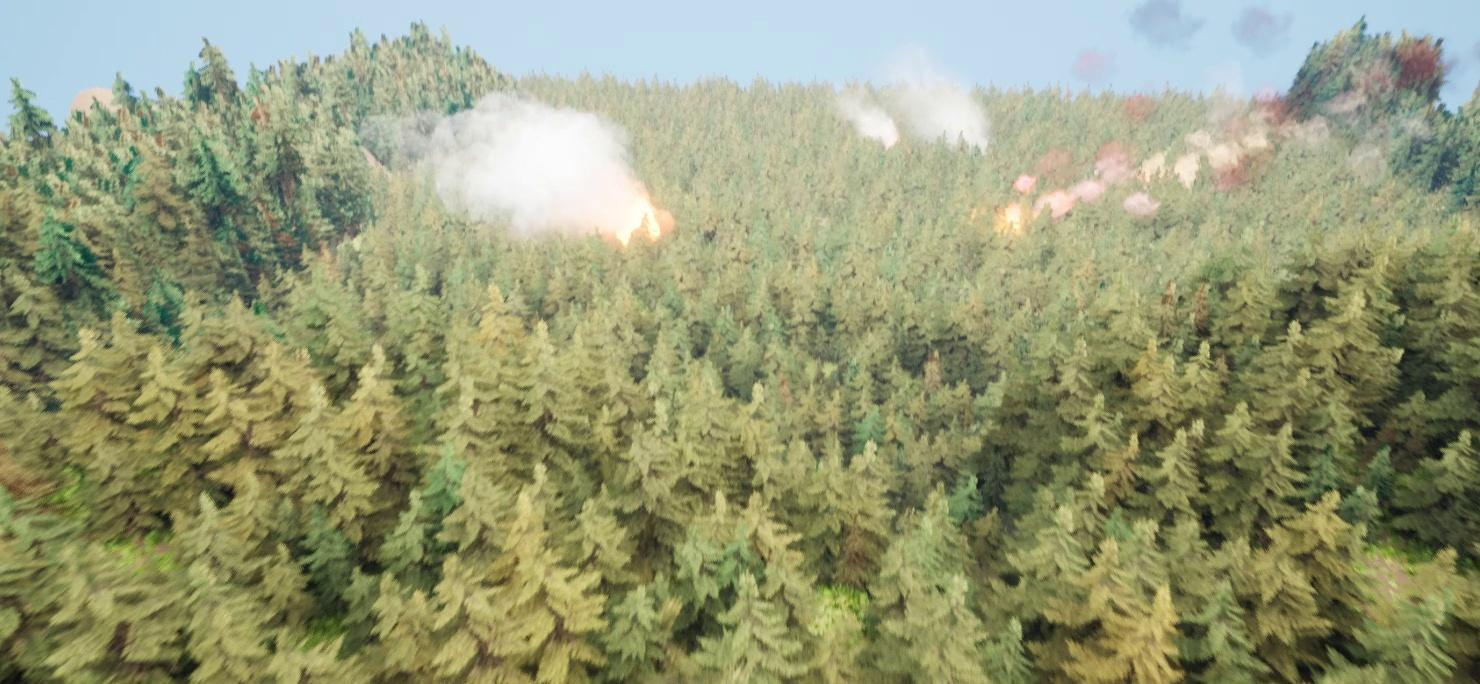fire: (608, 193, 682, 250), (995, 193, 1039, 234)
smoke: (375, 104, 652, 245), (1034, 104, 1277, 209), (821, 52, 1006, 160)
